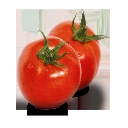tomato: (16, 36, 81, 108), (46, 21, 101, 88)
